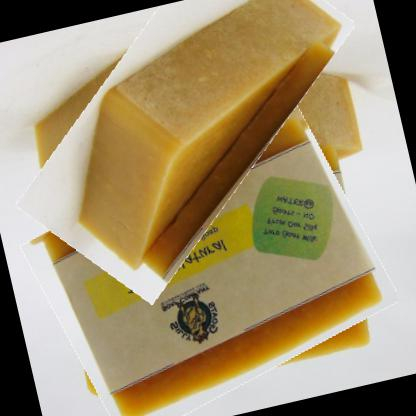soap: (17, 108, 403, 415), (0, 0, 392, 285)
